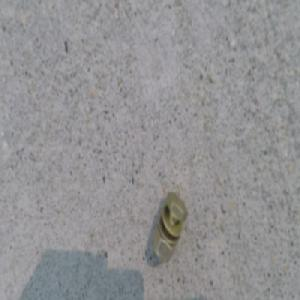BoltNutSet: (144, 188, 179, 259)
